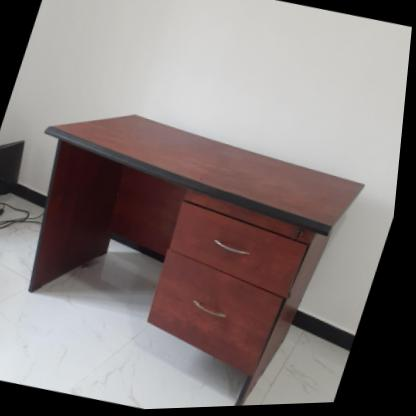Table: (0, 73, 406, 416)
